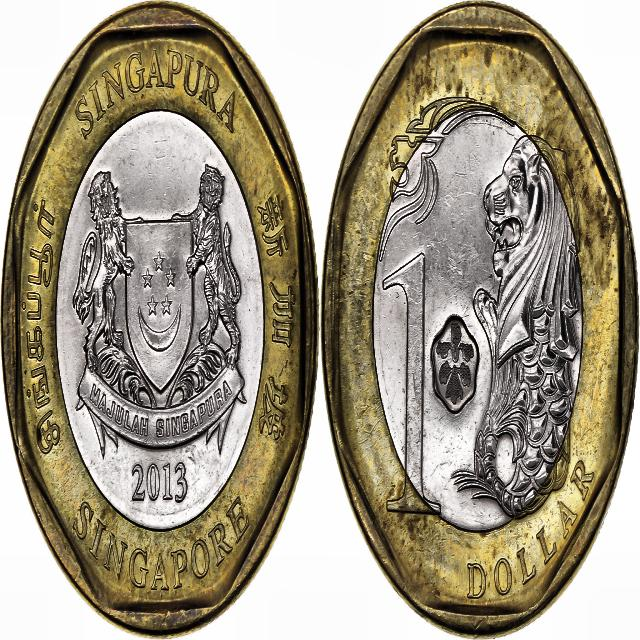coin: (323, 2, 638, 636), (2, 2, 317, 634)
